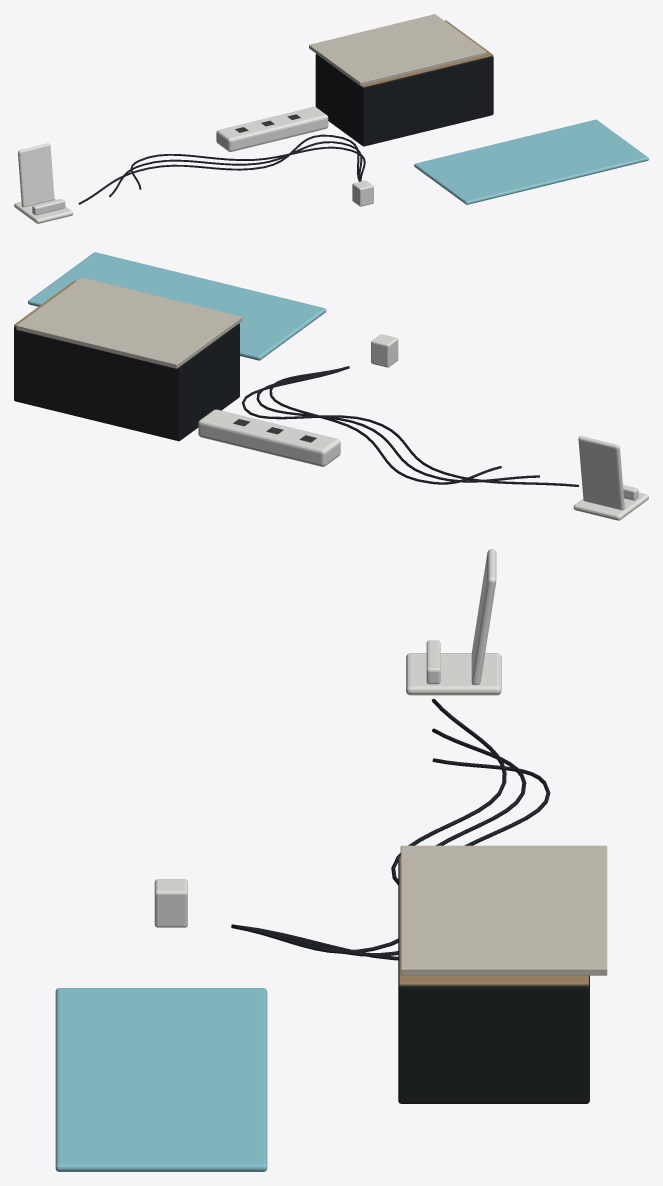
3 renders of one model, top to bottom at view 1: azimuth 30°, elevation 25°; view 2: azimuth 150°, elevation 25°; view 3: azimuth 270°, elevation 25°, orthographic. The views are drawn at different scales.
Parts seen in each view (by area): view 1: Unprinted dark instrument carton, Flat cyan sign substrate, Stacked blank papers, Small white stand base, Cardboard exposed edge; view 2: Unprinted dark instrument carton, Stacked blank papers, Flat cyan sign substrate, Small white stand base; view 3: Flat cyan sign substrate, Unprinted dark instrument carton, Stacked blank papers, Small white stand base, Cardboard exposed edge.
Boxes of the visible parts, bbox=[...] form: Unprinted dark instrument carton: bbox=[78, 54, 493, 204]; Flat cyan sign substrate: bbox=[414, 119, 648, 204]; Stacked blank papers: bbox=[309, 14, 486, 85]; Small white stand base: bbox=[14, 107, 373, 223]; Cardboard exposed edge: bbox=[361, 20, 493, 87]; Unprinted dark instrument carton: bbox=[14, 323, 578, 486]; Stacked blank papers: bbox=[16, 277, 242, 368]; Flat cyan sign substrate: bbox=[28, 252, 326, 360]; Small white stand base: bbox=[198, 334, 648, 520]; Flat cyan sign substrate: bbox=[55, 988, 267, 1171]; Unprinted dark instrument carton: bbox=[231, 698, 589, 1103]; Stacked blank papers: bbox=[400, 845, 607, 975]; Small white stand base: bbox=[154, 549, 501, 927]; Cardboard exposed edge: bbox=[399, 856, 588, 985].
Bounding box in the file's own units: 1.2 × 0.142 × 0.5475.
